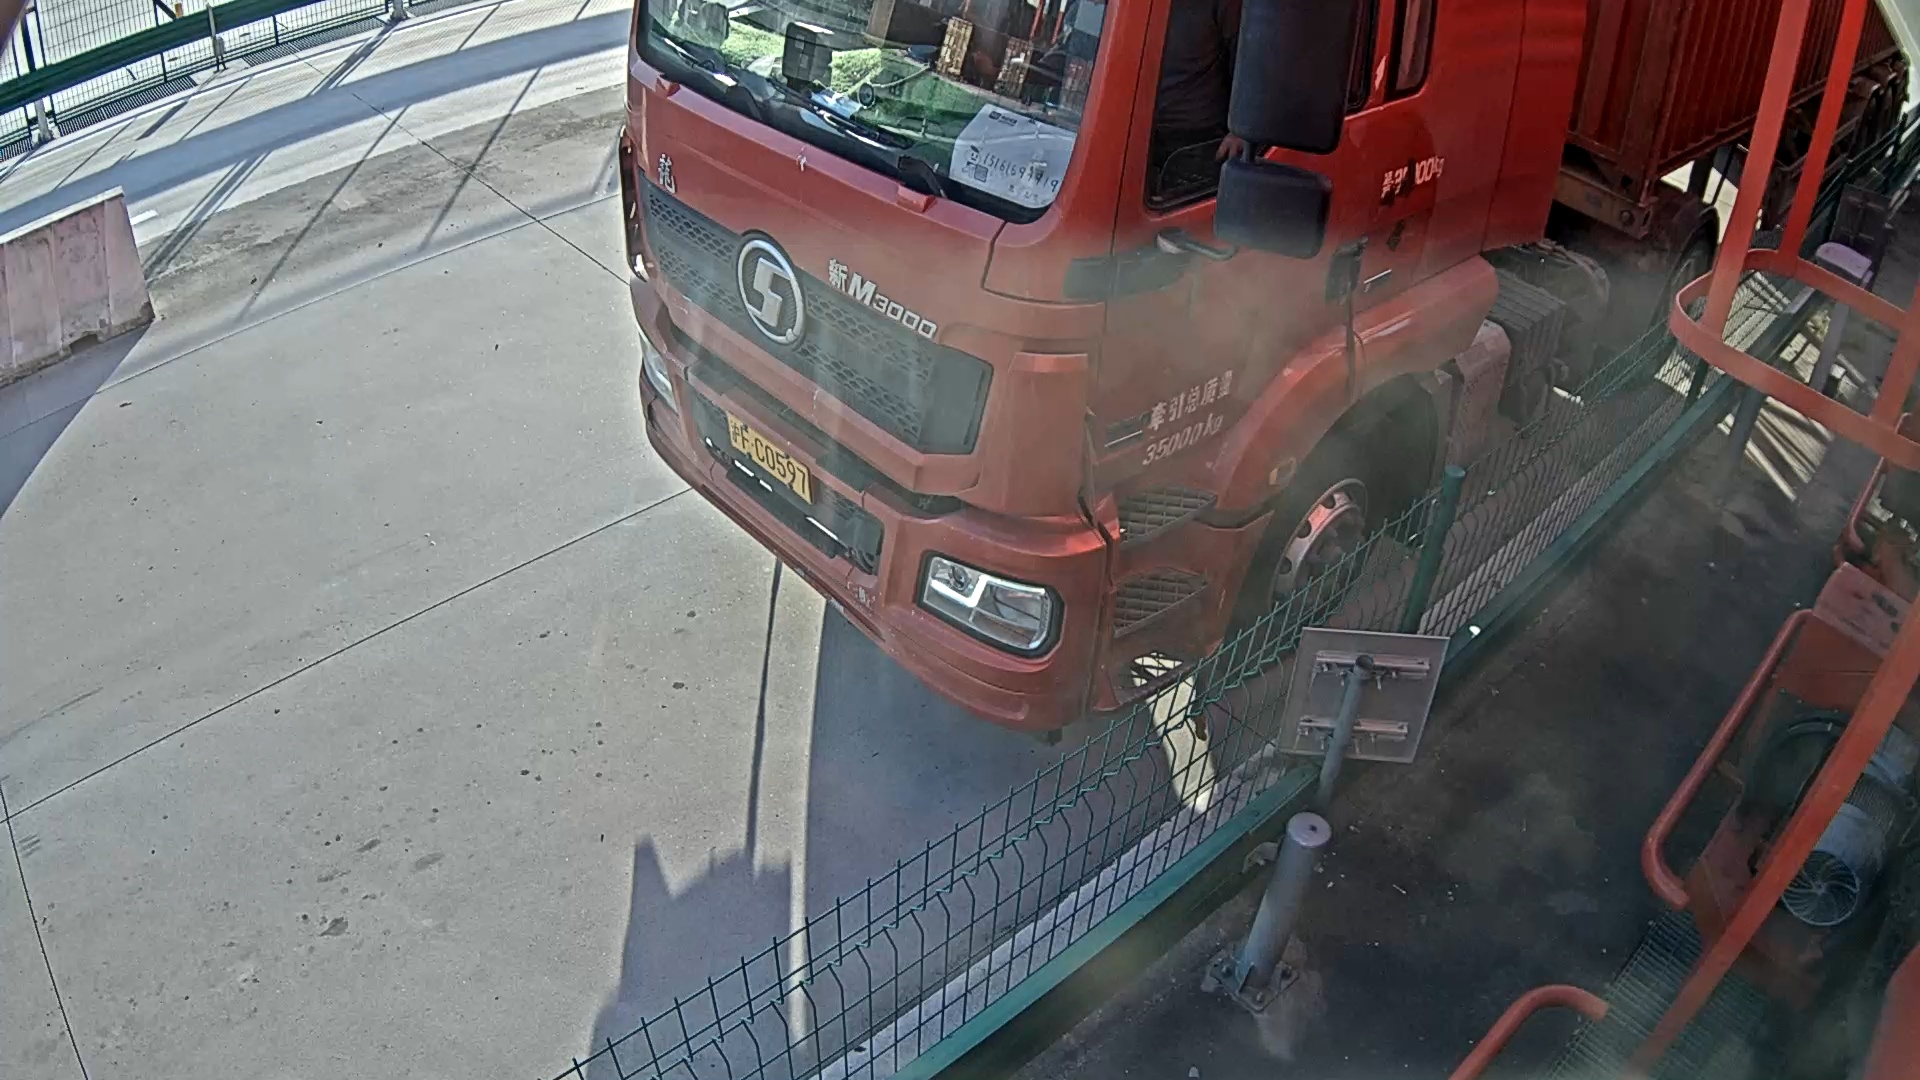head: (614, 8, 1443, 806)
plate: (704, 390, 858, 538)
